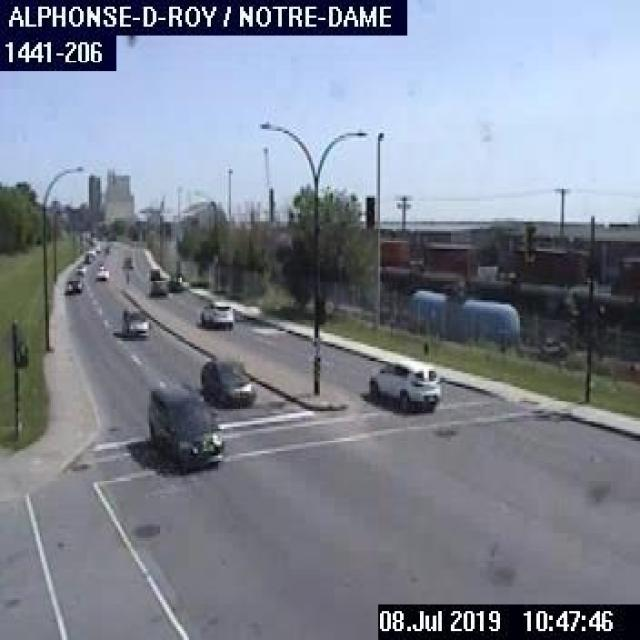vehicle: (142, 382, 222, 469), (365, 358, 440, 409), (198, 354, 257, 408), (119, 304, 149, 336), (198, 298, 232, 324), (142, 277, 167, 298), (164, 270, 184, 294), (62, 275, 83, 293), (91, 262, 109, 279), (145, 264, 161, 277), (72, 262, 85, 275)
